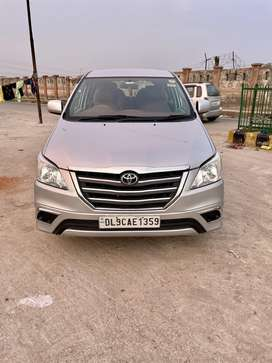DL9CAE1359: (98, 215, 161, 228)
